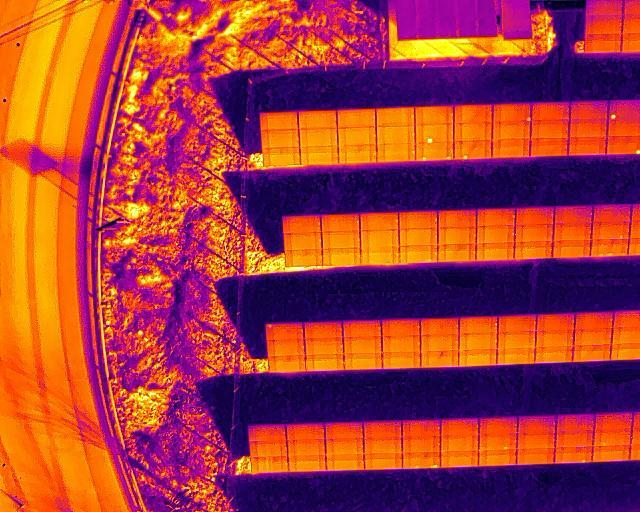Cell: (454, 139, 491, 159), (416, 125, 454, 144), (493, 104, 531, 122), (478, 435, 516, 452), (555, 446, 592, 463), (266, 323, 303, 339)
Cell-Multi: (415, 142, 453, 161), (402, 453, 441, 470)
No-Anomaly: (592, 203, 631, 223), (441, 418, 480, 438), (376, 107, 415, 127), (518, 415, 556, 435), (376, 125, 415, 144), (287, 454, 326, 473), (585, 34, 622, 54), (459, 348, 497, 367), (377, 143, 415, 162), (438, 243, 476, 262), (400, 244, 438, 263), (338, 144, 376, 163), (283, 214, 321, 233), (300, 146, 338, 165), (399, 210, 437, 229), (492, 139, 530, 158), (338, 126, 376, 145), (300, 128, 338, 147), (593, 428, 631, 447), (364, 421, 402, 440), (479, 417, 517, 436), (306, 353, 344, 372), (531, 120, 569, 139), (260, 111, 298, 130), (364, 452, 402, 471), (454, 104, 492, 123), (416, 105, 454, 124), (298, 110, 336, 129), (570, 101, 608, 120), (401, 420, 441, 438), (569, 137, 606, 156), (531, 138, 568, 157), (455, 122, 492, 141), (325, 422, 362, 441), (585, 15, 622, 34), (402, 435, 439, 454), (305, 337, 344, 355), (535, 346, 574, 364), (535, 330, 574, 348), (399, 228, 438, 246), (438, 210, 477, 228), (594, 412, 633, 430), (286, 423, 325, 441), (516, 448, 555, 466), (537, 314, 575, 332), (459, 333, 497, 351), (421, 334, 459, 352), (361, 246, 399, 264), (323, 248, 361, 266), (552, 240, 590, 258), (476, 242, 514, 260), (591, 239, 629, 257), (322, 231, 360, 249), (360, 213, 398, 231), (515, 224, 553, 242), (476, 226, 514, 244), (321, 214, 359, 232), (592, 222, 630, 240), (554, 205, 592, 223), (248, 424, 286, 442), (556, 415, 594, 433), (344, 352, 382, 370), (492, 121, 530, 139), (569, 119, 607, 137), (337, 110, 375, 128), (531, 103, 569, 121), (326, 454, 364, 472), (478, 449, 516, 467), (517, 432, 555, 450), (286, 249, 323, 267), (498, 331, 535, 349), (515, 242, 552, 260), (360, 230, 397, 248), (284, 232, 321, 250), (553, 223, 590, 241), (261, 130, 298, 148), (344, 337, 383, 354), (592, 445, 631, 462), (263, 148, 299, 166), (251, 456, 287, 474), (573, 345, 611, 362), (421, 351, 459, 368), (575, 312, 613, 329), (498, 315, 536, 332), (383, 335, 421, 352), (459, 317, 497, 334), (421, 318, 459, 335), (382, 319, 420, 336), (343, 320, 381, 337), (438, 227, 476, 244), (477, 209, 515, 226), (515, 208, 553, 225), (383, 352, 421, 369), (287, 439, 325, 456), (364, 437, 402, 454), (440, 436, 478, 453), (498, 348, 535, 365), (575, 329, 612, 346), (440, 451, 477, 468), (326, 439, 363, 456), (268, 339, 304, 356), (269, 355, 305, 372), (304, 322, 342, 338), (556, 431, 593, 447), (250, 440, 287, 456), (585, 0, 623, 15)
